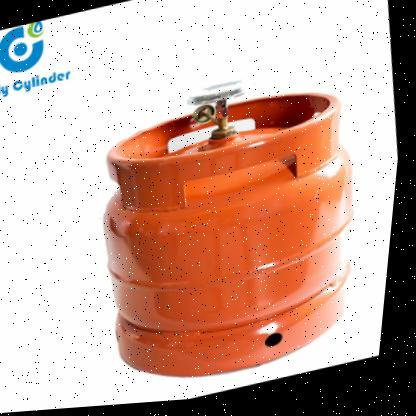gas-tank: (46, 58, 409, 411)
